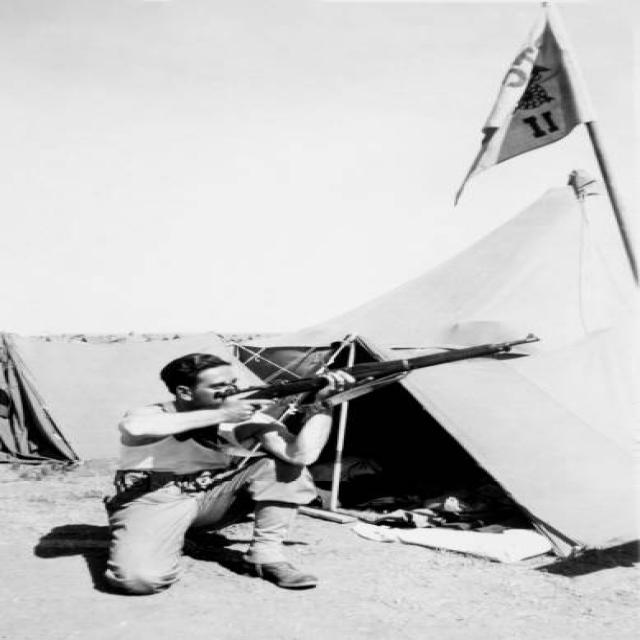soldier: (105, 338, 534, 596)
